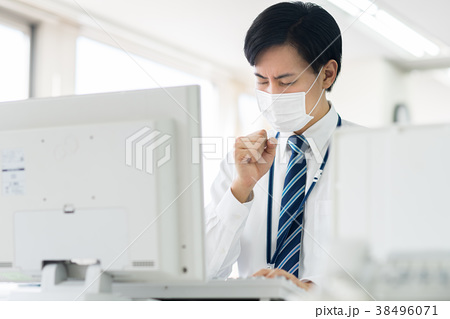mask: (255, 88, 315, 133)
